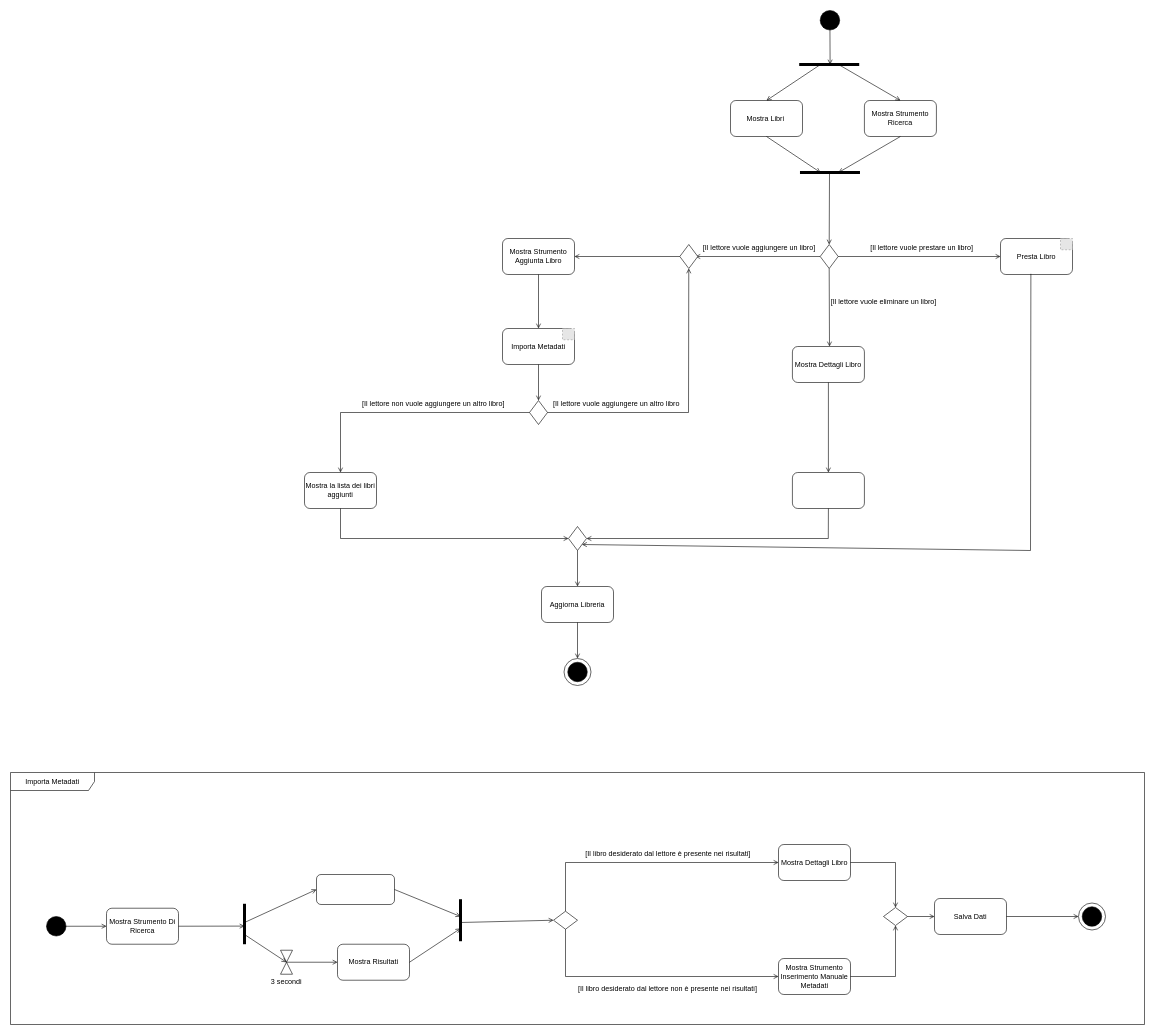
This 1155x1035 diagram has some shape labels left out. Grey dashed boxes stand in for pictures. The centre of each missing label's shape, as x and y in pixels:
Elimia Libro: point 828,490
Scarica Catalogo Libri: point 355,889
